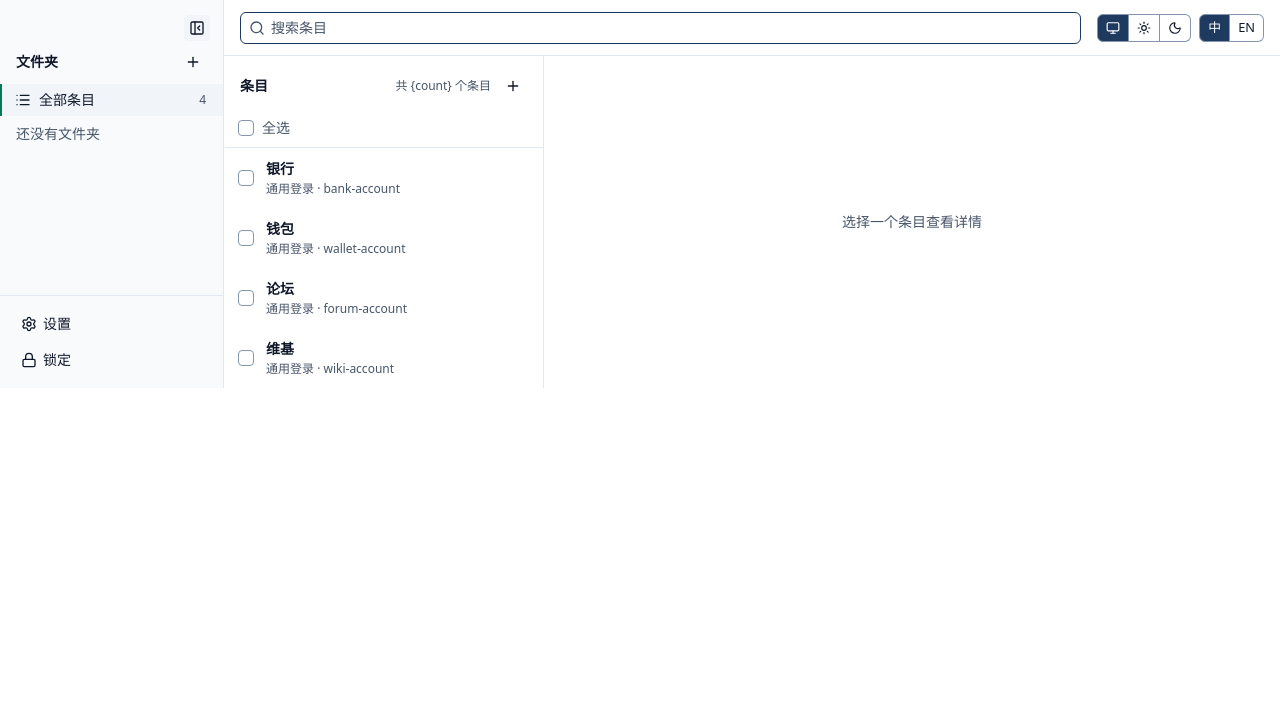
Test: 手动锁定: 被拒绝时保持解锁 › 有任务进行中: 弹出提示, 条目与选中详情都还在
This screenshot has width=1280, height=720.
Click the button "银行 通用登录 · bank-account".
click(400, 178)  # box [258,148,543,208]
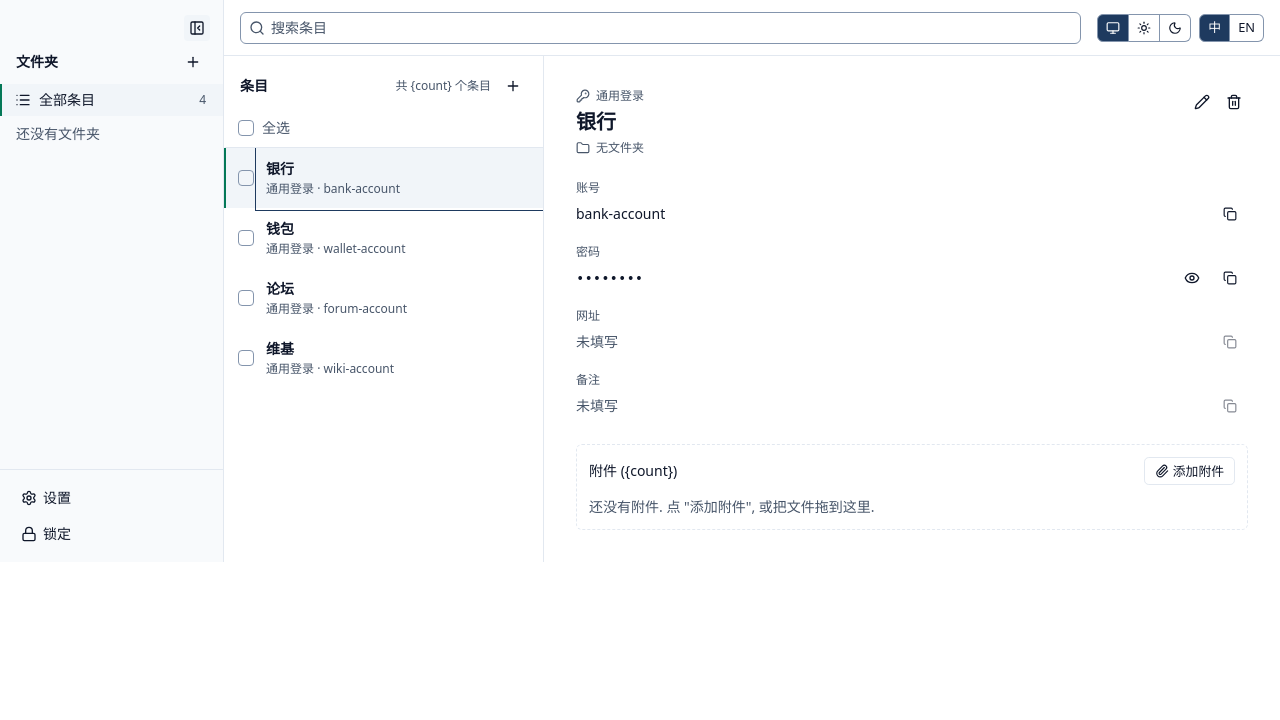
Now the heading "银行" is shown, box [576,108,616,135]
Click the button "锁定".
click(112, 534)  # box [12,518,211,550]
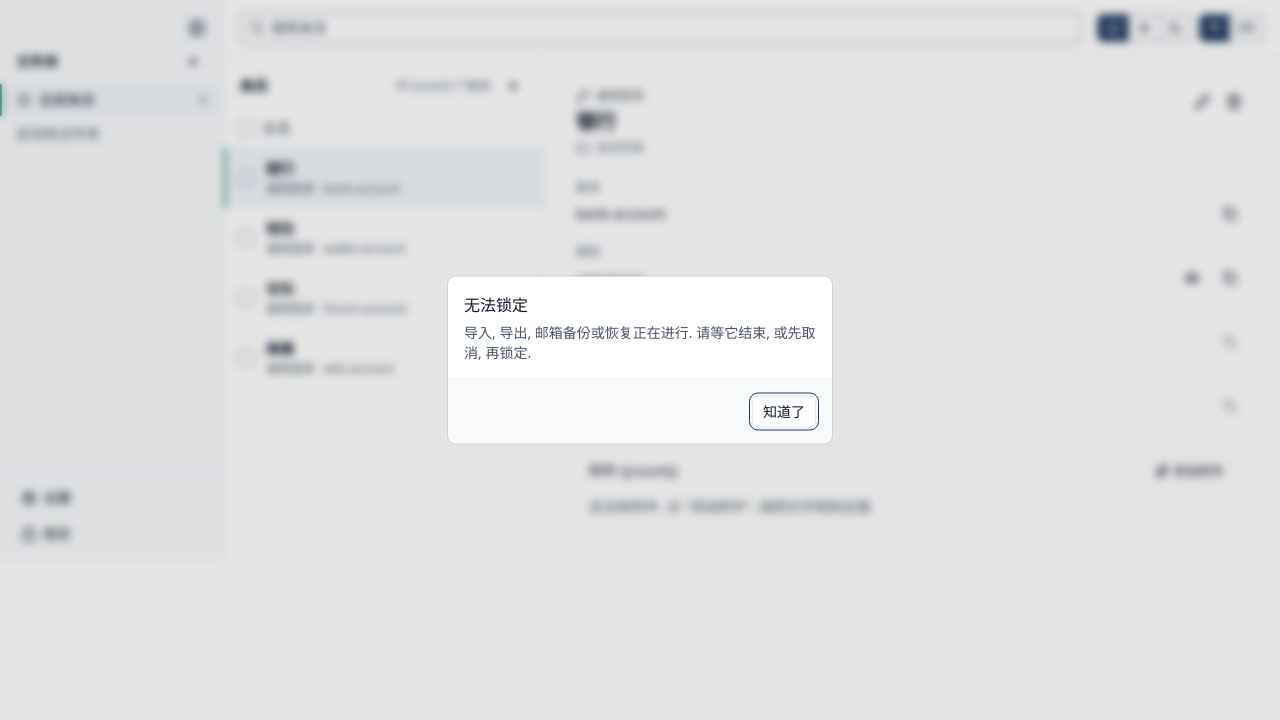
Now the dialog "无法锁定" is shown, box [448,276,832,444]
Click the button "知道了".
click(784, 412)  # box [752,396,816,428]
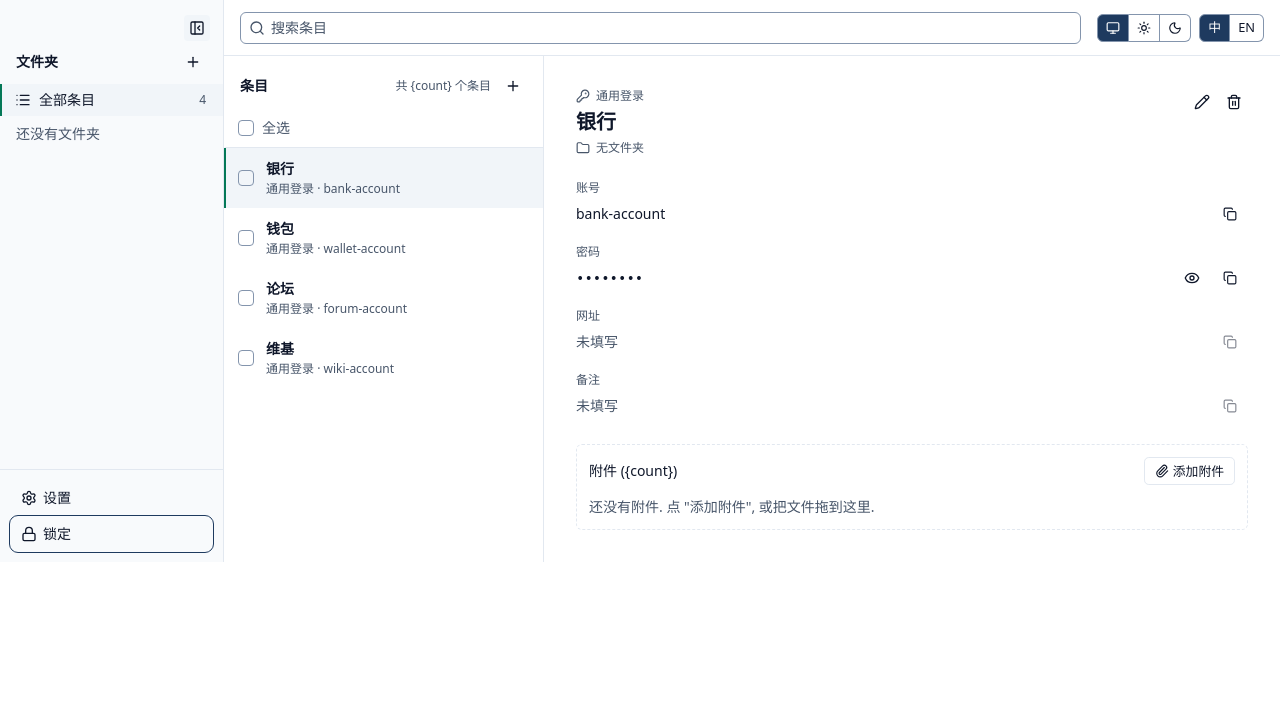
Now the heading "银行" is shown, box [576,108,616,135]
Now the dialog is gone
